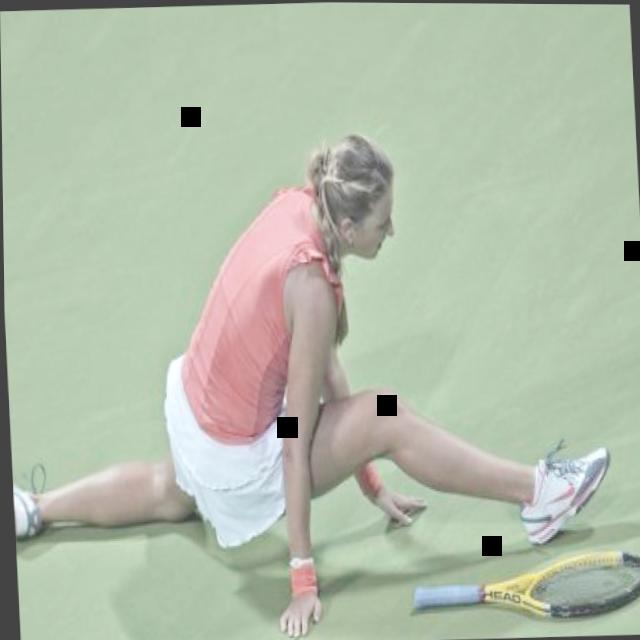Fall-Detected: (1, 98, 638, 637)
